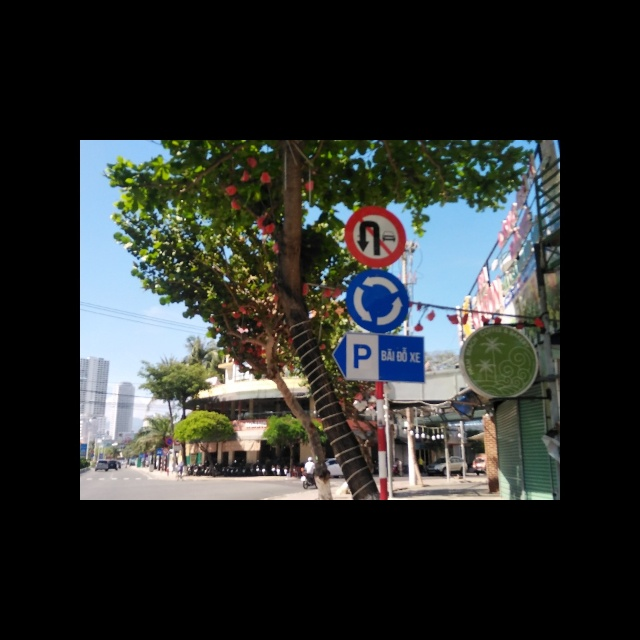Cấm xe ô tô quay đầu: (344, 207, 406, 268)
Nơi giao nhau chạy theo vòng xuyến: (346, 269, 408, 332)
Nơi đỗ xe: (330, 332, 424, 383)
